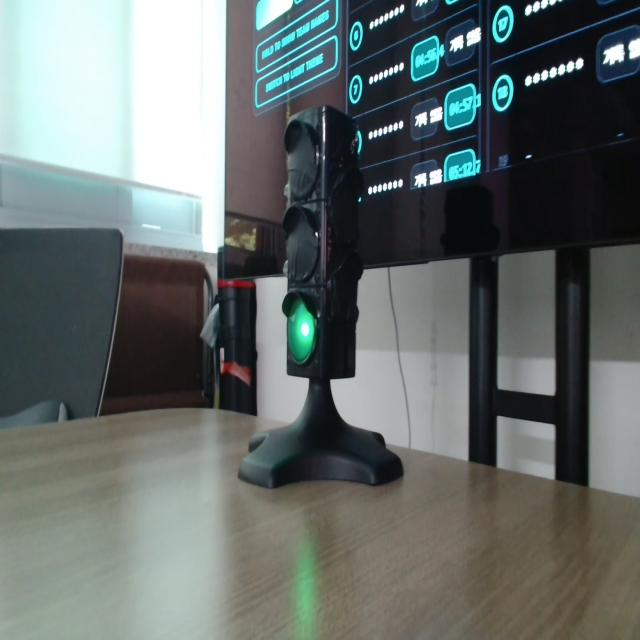green_light: (287, 299, 316, 365)
